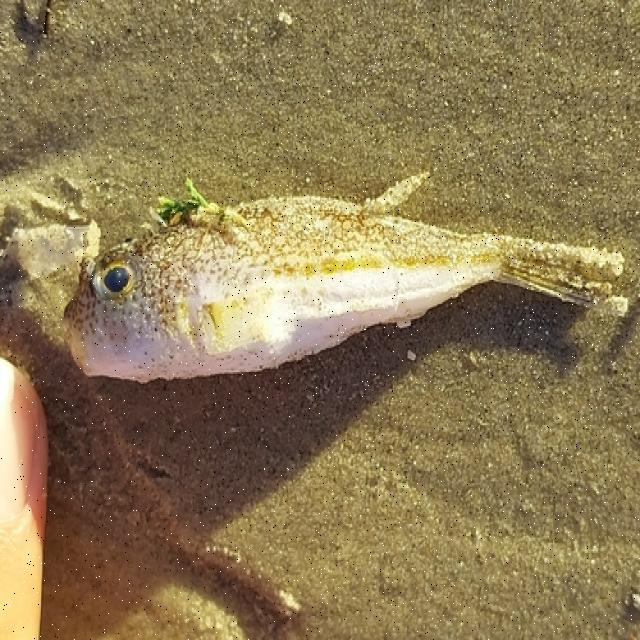Balik: (66, 175, 627, 380)
